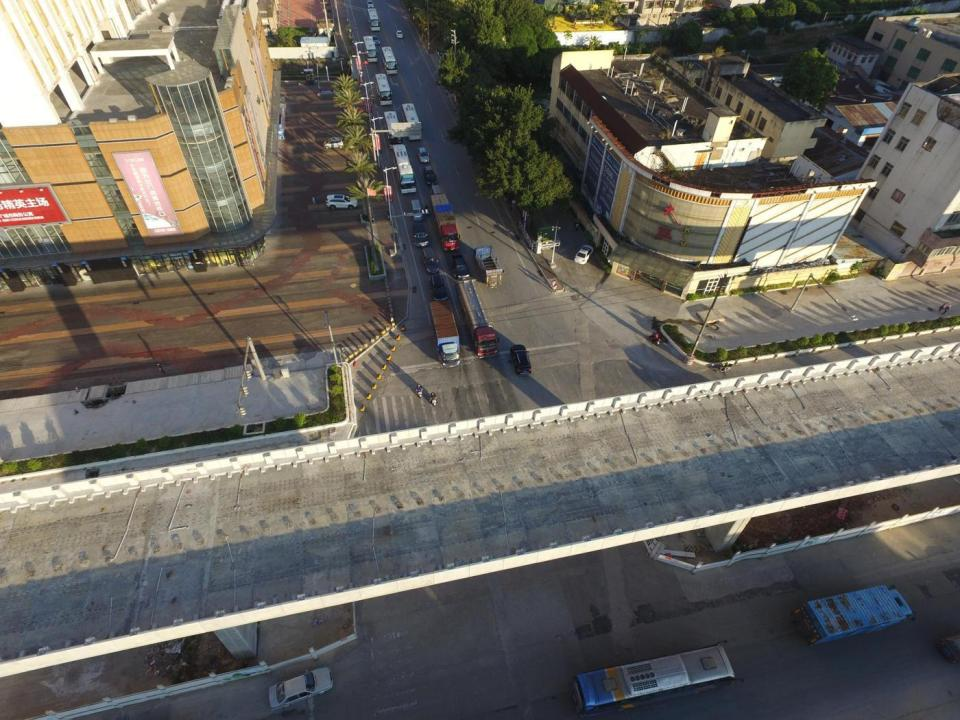bus: (572, 640, 745, 718), (391, 144, 418, 195), (383, 111, 405, 151), (401, 103, 423, 142), (374, 73, 392, 107), (382, 46, 398, 75), (362, 35, 378, 64), (368, 7, 381, 33)
car: (269, 666, 334, 710), (937, 628, 960, 665), (510, 344, 532, 376), (450, 254, 472, 282), (326, 194, 358, 210), (410, 222, 429, 248), (574, 243, 594, 265), (322, 137, 345, 150), (424, 165, 437, 187), (416, 146, 430, 165), (370, 34, 381, 46), (396, 28, 404, 40), (367, 0, 373, 8)
truck: (789, 584, 916, 645), (455, 278, 500, 360), (429, 298, 461, 369), (430, 192, 462, 252), (473, 246, 505, 290)
van: (420, 247, 440, 273), (410, 199, 423, 220), (432, 185, 442, 198)
